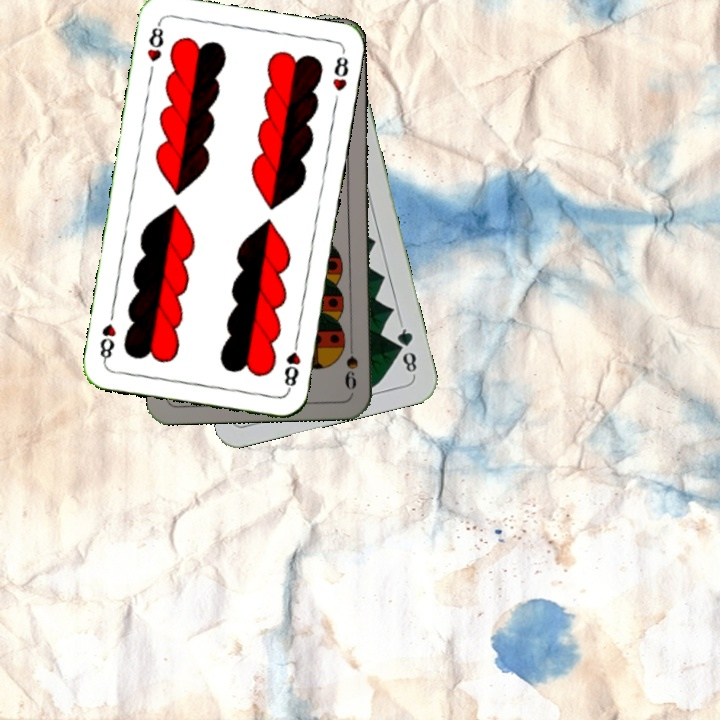G8: (392, 320, 420, 378)
H8: (280, 334, 303, 393), (143, 19, 166, 65)
S9: (341, 334, 361, 392)
